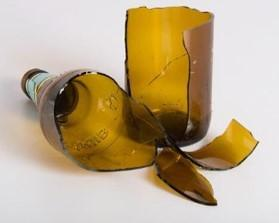glass: (20, 64, 262, 208), (123, 4, 214, 145)
